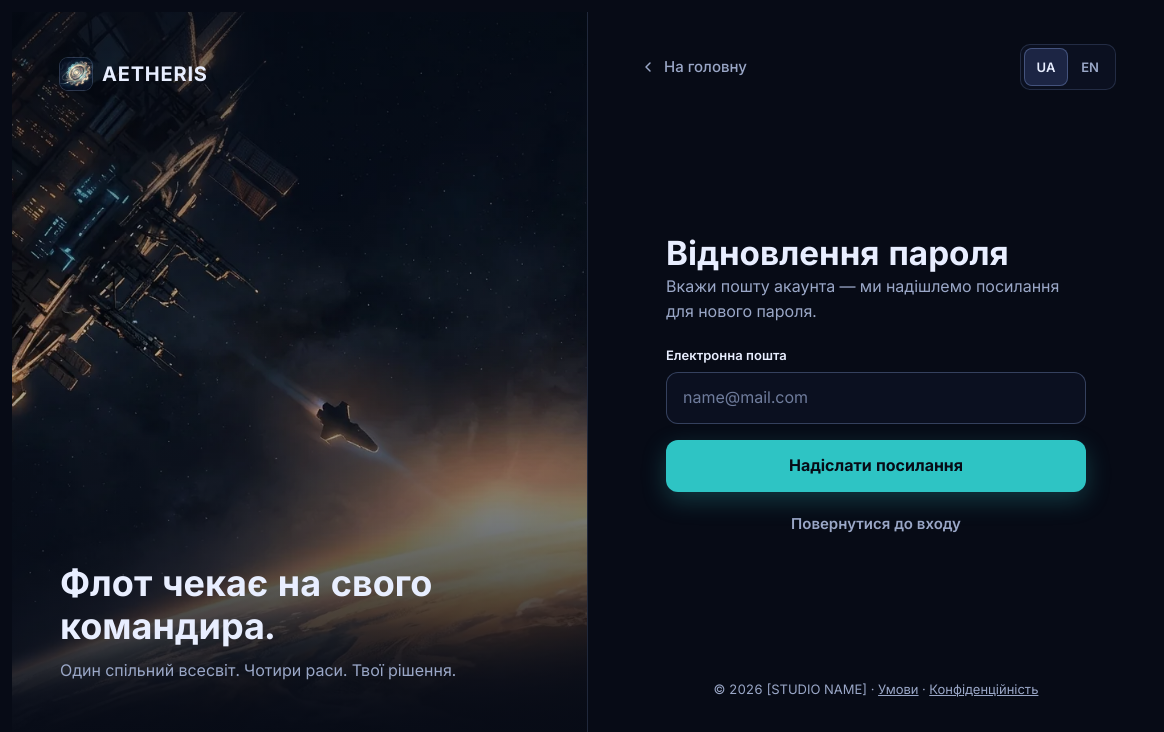
Test: ForgotPasswordPage › requests a reset link and shows the check-email screen for a reset
Type "pilot@example.test" into the field labelled "Електронна пошта" at (876, 398), box [666,372,1086,424]
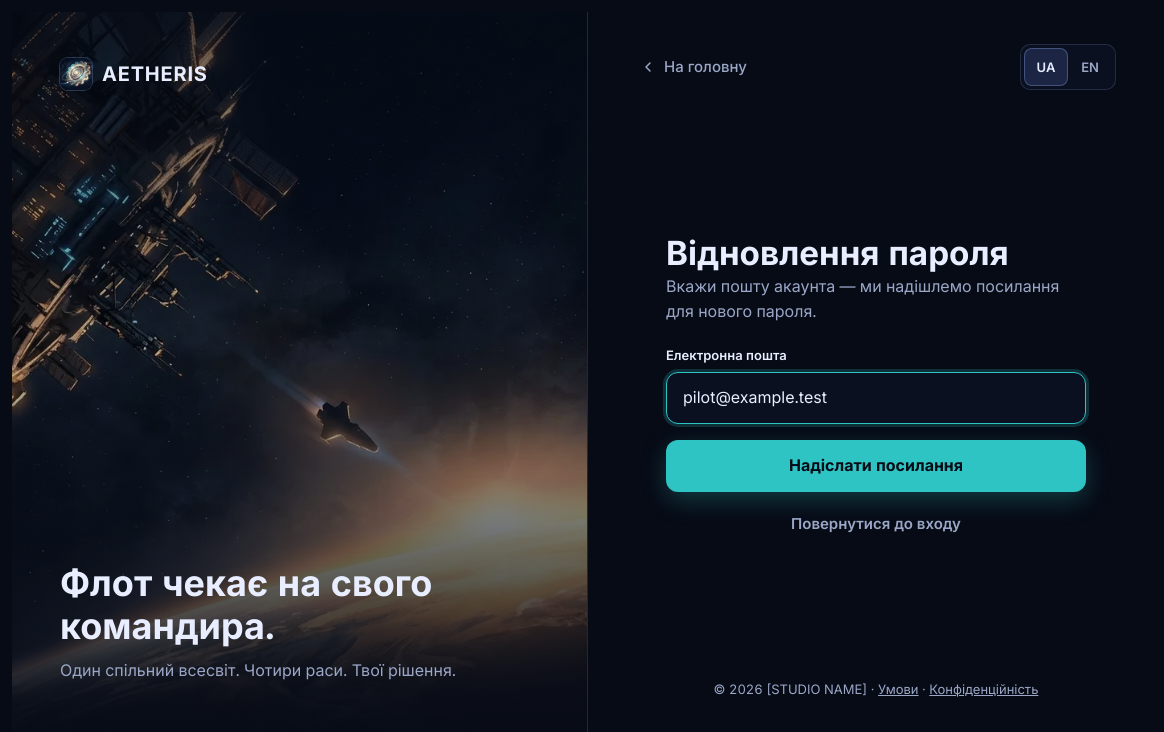
Click the button "Надіслати посилання" at (876, 466), box [666,440,1086,492]
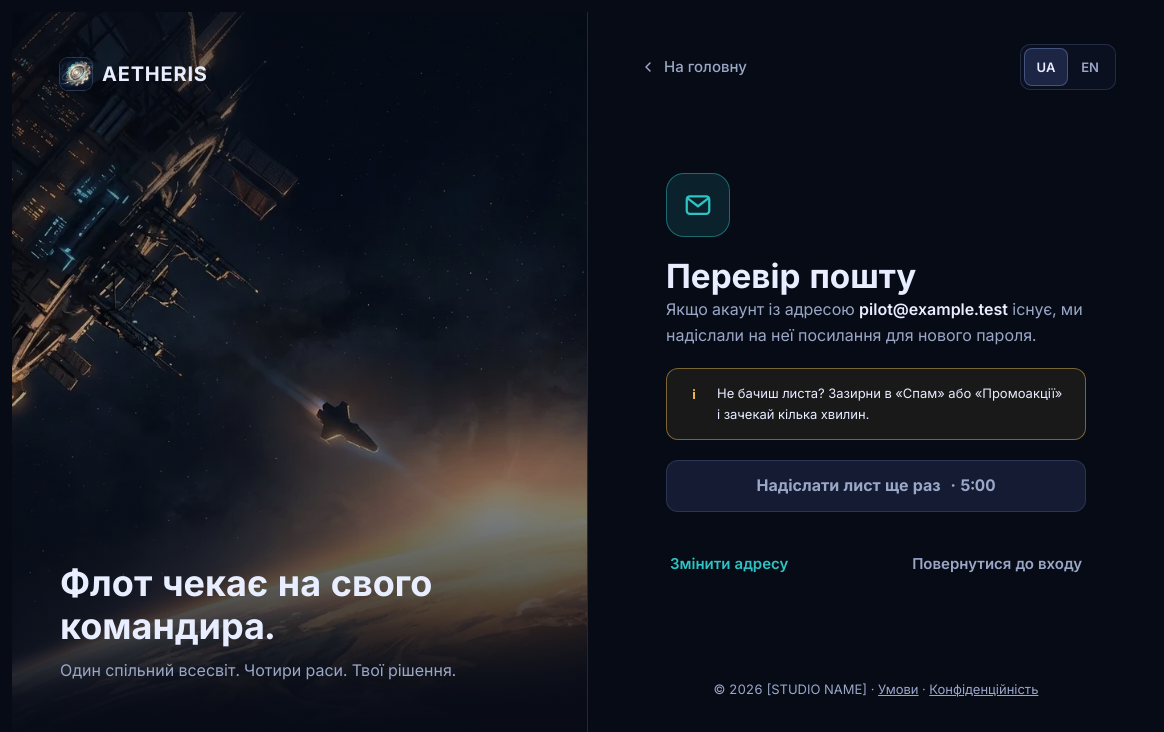
Result: the text "ми надіслали на неї посилання для нового пароля" is shown at [666,299,1083,345]
